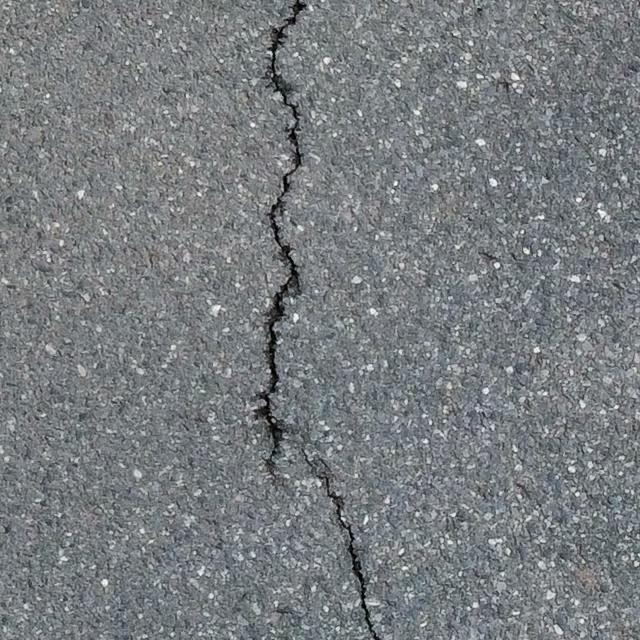LongitudinalCrack: (254, 2, 379, 640)
